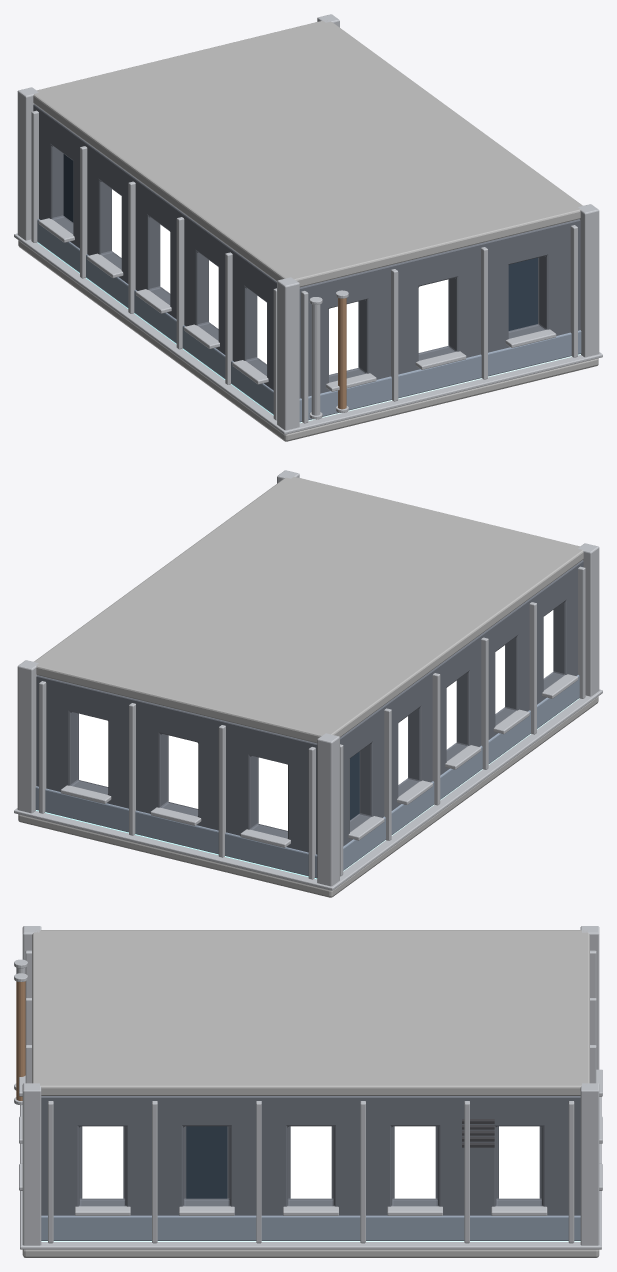
File: office_4x6_c.glb
3 renders of one model, top to bottom at view 1: azimuth 30°, elevation 25°; view 2: azimuth 150°, elevation 25°; view 3: azimuth 270°, elevation 25°, orthographic. The views are drawn at different scales.
Parts seen in each view (by area): view 1: int_ceiling, ext_wall, ext_frames, ext_spandrel, int_columns, ext_panes_lit, int_slab_edge, int_slab, ext_panes_dark, ext_pipe0, ext_pipe1, int_grid; view 2: int_ceiling, ext_wall, ext_frames, ext_spandrel, int_columns, ext_panes_lit, int_slab_edge, int_slab, int_grid, ext_panes_dark; view 3: int_ceiling, ext_wall, ext_spandrel, ext_panes_lit, ext_frames, int_columns, int_slab, int_slab_edge, ext_panes_dark, ext_pipe1, ext_vent, int_grid.
Boxes of the visible parts, x1=… form: int_ceiling: x1=33, y1=20, x2=582, y2=287; ext_wall: x1=33, y1=104, x2=580, y2=398; ext_frames: x1=31, y1=110, x2=577, y2=423; ext_spandrel: x1=37, y1=219, x2=581, y2=422; int_columns: x1=17, y1=14, x2=599, y2=430; ext_panes_lit: x1=112, y1=189, x2=448, y2=374; int_slab_edge: x1=14, y1=233, x2=602, y2=434; int_slab: x1=18, y1=240, x2=598, y2=441; ext_panes_dark: x1=63, y1=154, x2=537, y2=330; ext_pipe0: x1=311, y1=304, x2=320, y2=415; ext_pipe1: x1=338, y1=298, x2=346, y2=409; int_grid: x1=37, y1=242, x2=580, y2=423; int_ceiling: x1=34, y1=476, x2=583, y2=743; ext_wall: x1=36, y1=560, x2=583, y2=854; ext_frames: x1=39, y1=566, x2=585, y2=879; ext_spandrel: x1=35, y1=675, x2=579, y2=878; int_columns: x1=17, y1=470, x2=599, y2=886; ext_panes_lit: x1=79, y1=610, x2=553, y2=830; int_slab_edge: x1=14, y1=689, x2=602, y2=890; int_slab: x1=18, y1=696, x2=598, y2=897; int_grid: x1=36, y1=698, x2=579, y2=879; ext_panes_dark: x1=350, y1=752, x2=359, y2=820; int_ceiling: x1=32, y1=930, x2=589, y2=1095; ext_wall: x1=41, y1=1096, x2=580, y2=1215; ext_spandrel: x1=41, y1=1215, x2=580, y2=1240; ext_panes_lit: x1=82, y1=1126, x2=539, y2=1198; ext_frames: x1=19, y1=950, x2=602, y2=1243; int_columns: x1=22, y1=926, x2=599, y2=1245; int_slab: x1=22, y1=1249, x2=599, y2=1257; int_slab_edge: x1=20, y1=1096, x2=601, y2=1249; ext_panes_dark: x1=186, y1=1126, x2=227, y2=1198; ext_pipe1: x1=16, y1=981, x2=25, y2=1100; ext_vent: x1=462, y1=1119, x2=494, y2=1147; int_grid: x1=41, y1=1241, x2=580, y2=1241.
Size of the model in its own units: 4.28 by 2 by 6.33.
